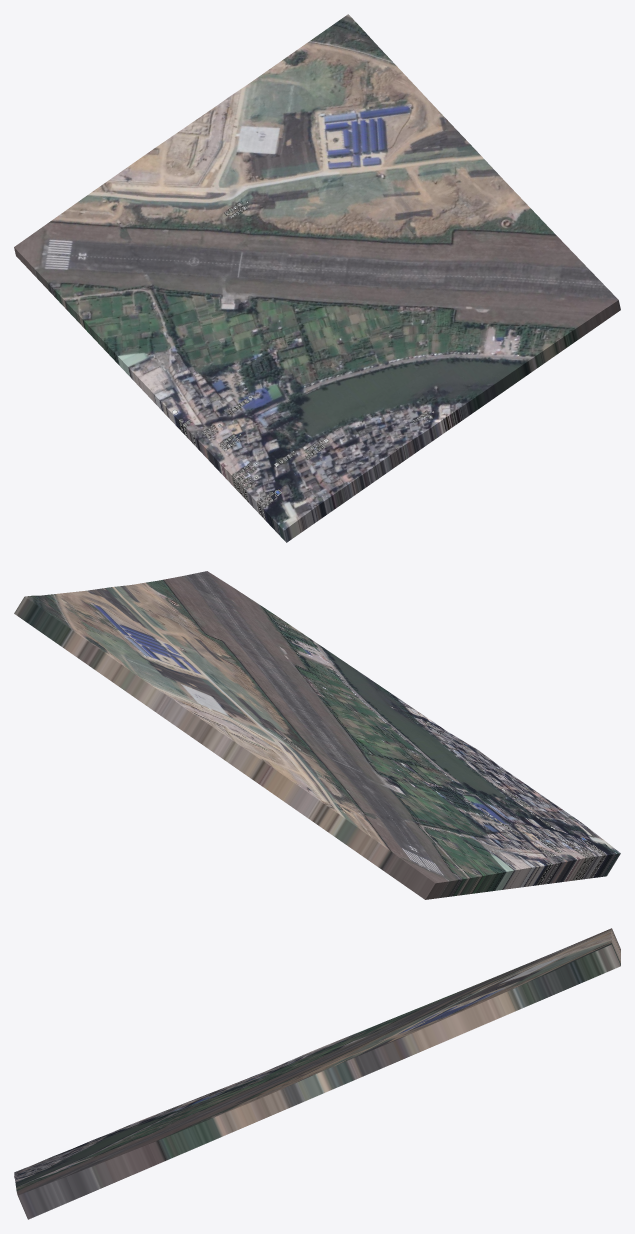
The picture shows the model from 3 angles, top to bottom: view 1: azimuth 30°, elevation 25°; view 2: azimuth 150°, elevation 25°; view 3: azimuth 270°, elevation 25°; orthographic projection. The views are drawn at different scales.
Parts seen in each view (by area): view 1: 0_3_32; view 2: 0_3_32; view 3: 0_3_32.
Boxes of the visible parts, x1,y1,x2,y2 form: 0_3_32: (14, 14, 620, 542); 0_3_32: (14, 571, 620, 899); 0_3_32: (14, 928, 620, 1219).
Size of the model in its own units: 600 by 447 by 555.
1 material, 1 textured.
